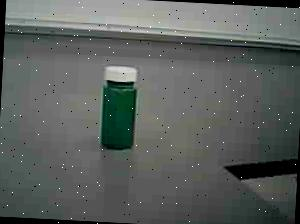Bottle C: (91, 59, 150, 159)
